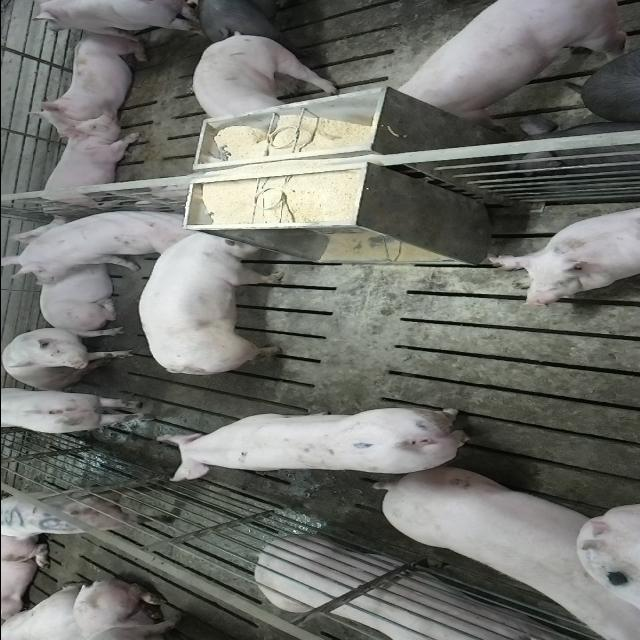Feeding: (140, 226, 288, 371)
Sitting: (0, 207, 187, 283), (1, 326, 133, 390)
Standing: (390, 2, 628, 124), (153, 406, 481, 482), (194, 32, 342, 126), (2, 483, 158, 538), (2, 388, 152, 437), (23, 0, 202, 34), (190, 0, 312, 42)
Sternal_lying: (249, 538, 581, 640), (482, 202, 640, 307), (21, 30, 146, 136), (28, 122, 140, 216), (24, 260, 122, 330)
